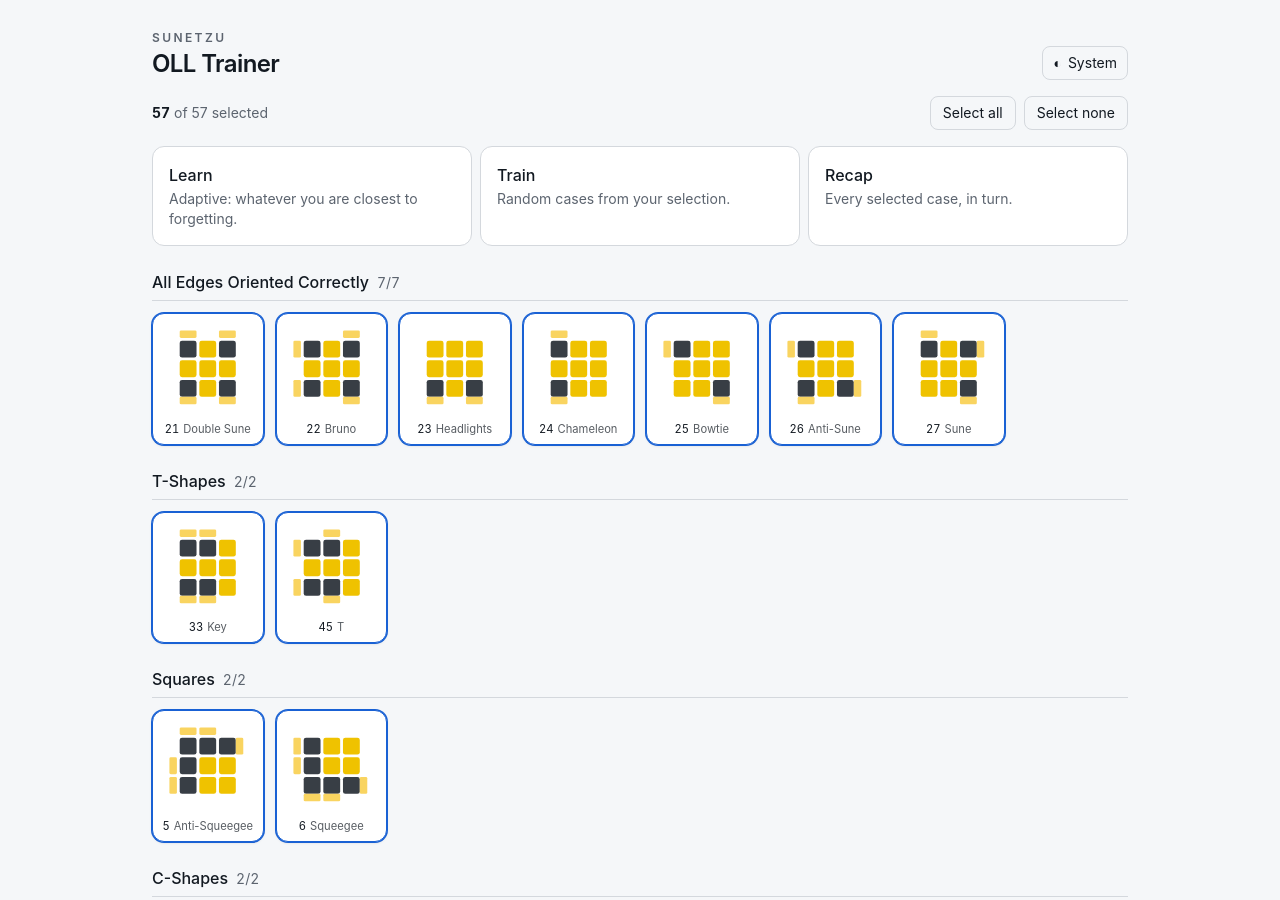
Test: SelectionView › toggles a single case
Step 1. Click the button with test id "case-27" → coordinates (949, 379), box [893,313,1004,444]
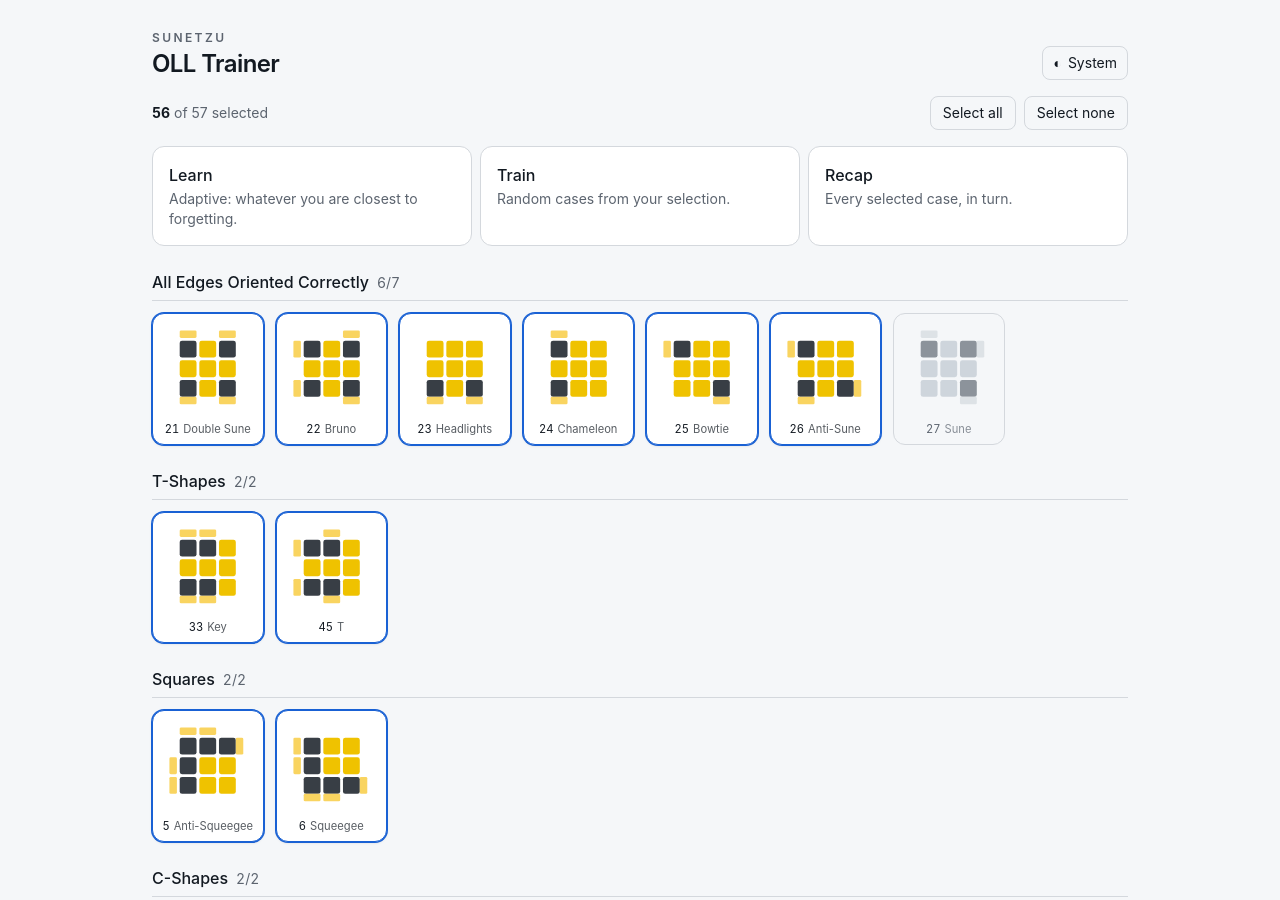
Expected: the element with test id "selection-count" shows "56 of 57", [152,103,268,123]
